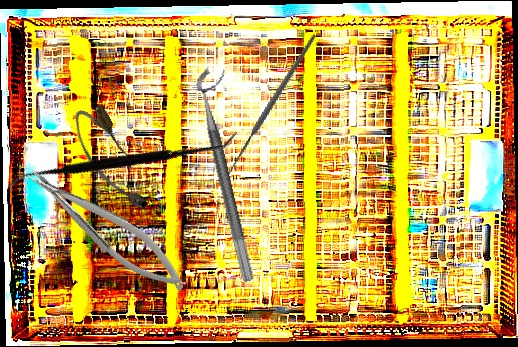Cannula: (65, 99, 156, 222)
Fixation Ring: (192, 64, 273, 283)
Hook Surgical: (182, 32, 361, 191)
Needle Holder: (20, 152, 195, 305)
Spatula Surgical: (5, 45, 240, 273)
